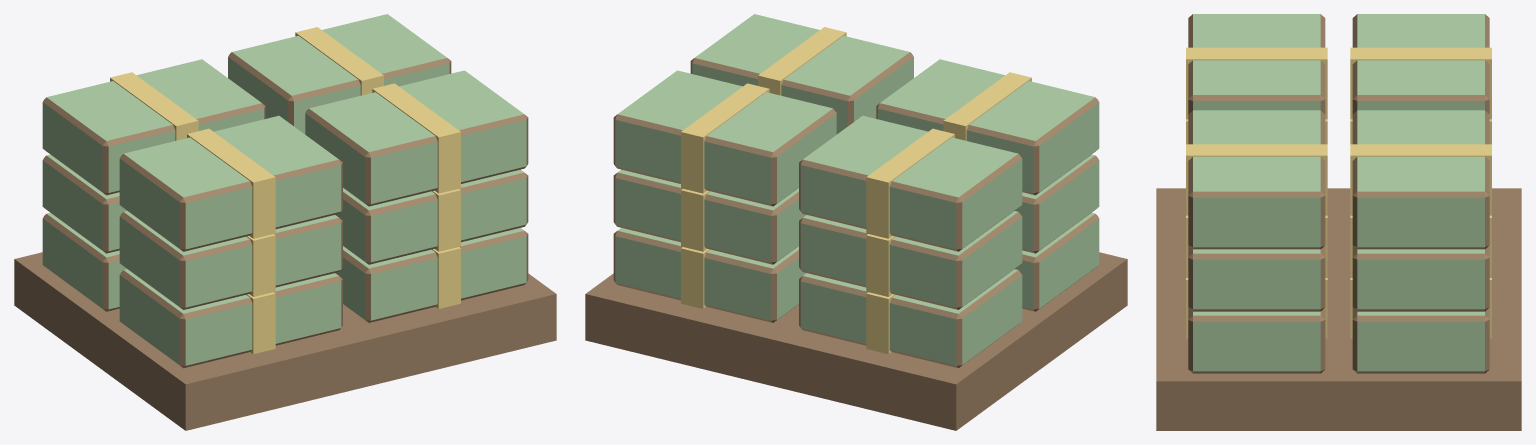
Rendered from rs_cash_stack.glb.
3 views of the same model, side by side, from view 1: azimuth 30°, elevation 25°; view 2: azimuth 150°, elevation 25°; view 3: azimuth 270°, elevation 25° (orthographic). The views are drawn at different scales.
Parts seen in each view (by area): view 1: rs_cash_stack; view 2: rs_cash_stack; view 3: rs_cash_stack.
Boxes of the visible parts, left/top/right/bottom form: rs_cash_stack: left=14, top=14, right=556, bottom=430; rs_cash_stack: left=585, top=14, right=1127, bottom=430; rs_cash_stack: left=1156, top=14, right=1521, bottom=430.
Size of the model in its own units: 1 by 0.5625 by 0.8.
